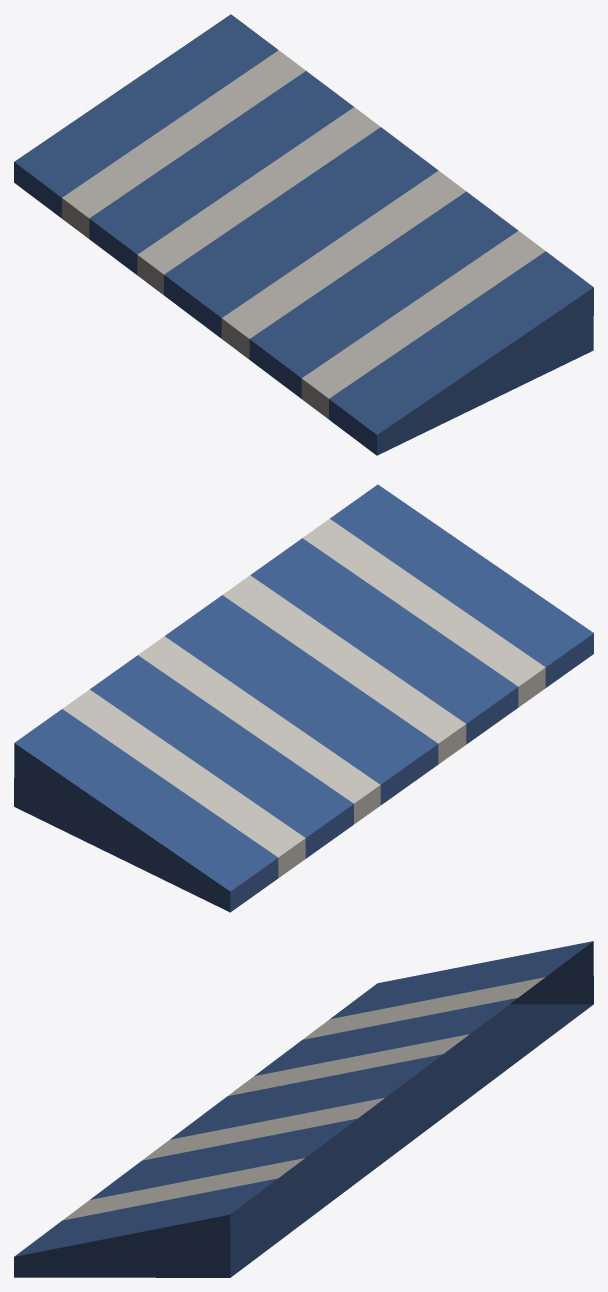
Rendered from SA_Bld_TrailerRV_Extras_03.gltf.
3 views of the same model, one above another, from view 1: azimuth 30°, elevation 25°; view 2: azimuth 150°, elevation 25°; view 3: azimuth 330°, elevation 25° (orthographic).
Visible parts, largest first — view 1: SA_Bld_TrailerRV_Extras_03; view 2: SA_Bld_TrailerRV_Extras_03; view 3: SA_Bld_TrailerRV_Extras_03.
Part boxes in pixels (x1=…): SA_Bld_TrailerRV_Extras_03: x1=14, y1=14, x2=593, y2=455; SA_Bld_TrailerRV_Extras_03: x1=14, y1=484, x2=593, y2=912; SA_Bld_TrailerRV_Extras_03: x1=14, y1=941, x2=593, y2=1277.
Bounding box in the file's own units: 1.49 × 0.8149 × 4.34.
Materials: 1 (1 with a texture image).
